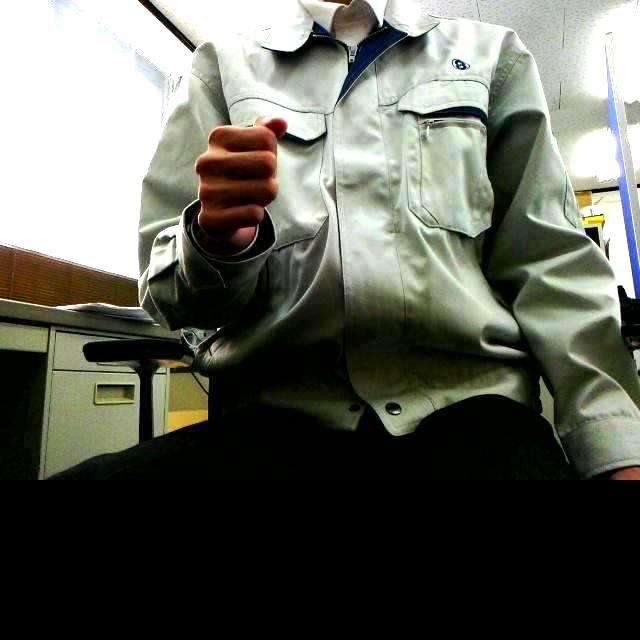gu-: (195, 116, 288, 237)
